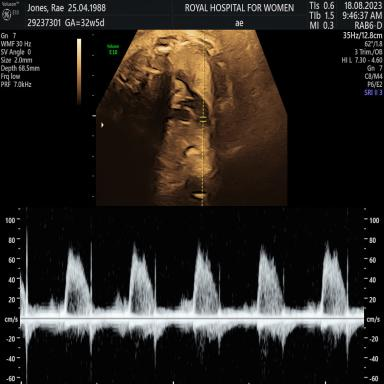Ultrasound-Waves: (26, 212, 363, 384)
